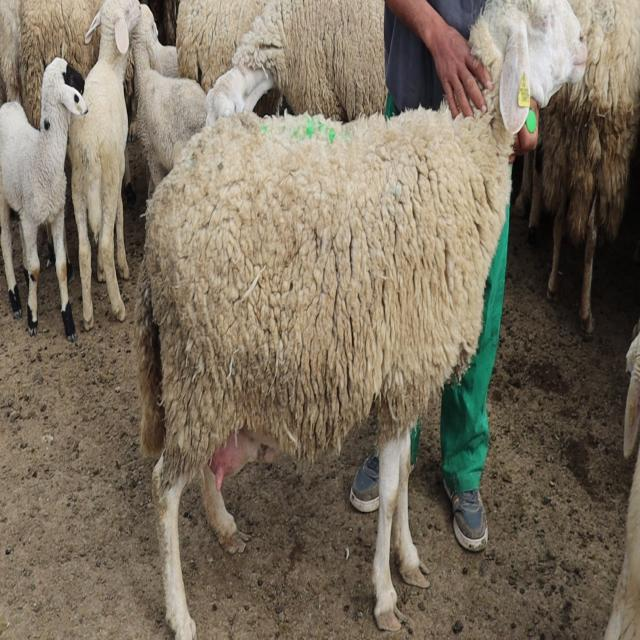Score_2: (136, 0, 587, 639)
